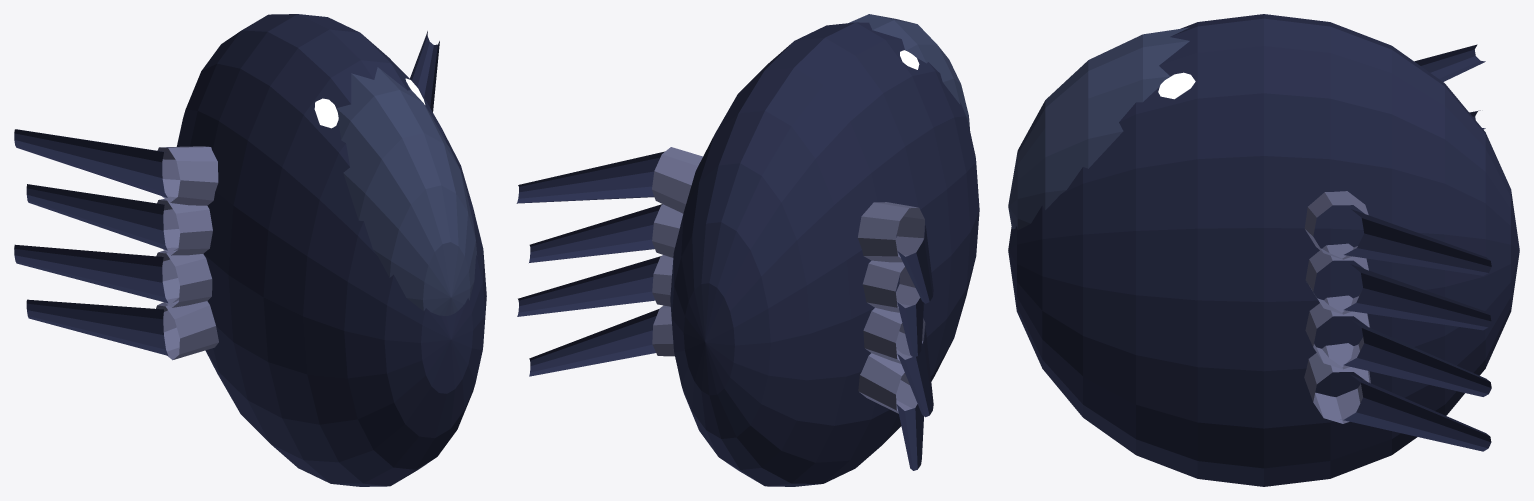
File: ObservatorySpider_v09.glb
The picture shows the model from 3 angles, left to right: view 1: azimuth 30°, elevation 25°; view 2: azimuth 150°, elevation 25°; view 3: azimuth 270°, elevation 25°; orthographic projection. The views are drawn at different scales.
Visible parts, largest first — view 1: ObservatorySpider; view 2: ObservatorySpider; view 3: ObservatorySpider.
Boxes of the visible parts, box(x1,y1,x2,y2) form: ObservatorySpider: box(14, 14, 486, 486); ObservatorySpider: box(516, 14, 979, 486); ObservatorySpider: box(1008, 14, 1519, 486).
Bounding box in the file's own units: 1 × 1 × 1.
